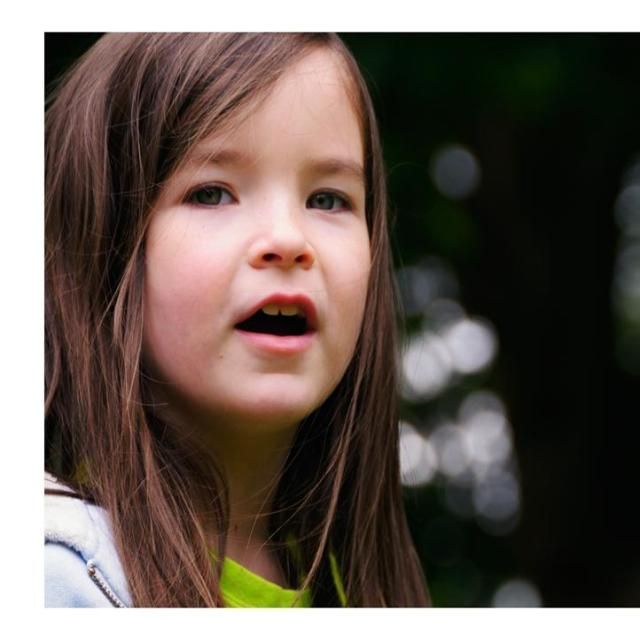no-glass: (183, 182, 349, 214)
